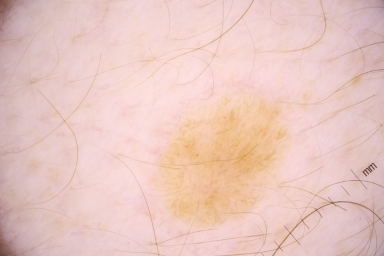melanoma: (138, 85, 294, 229)
